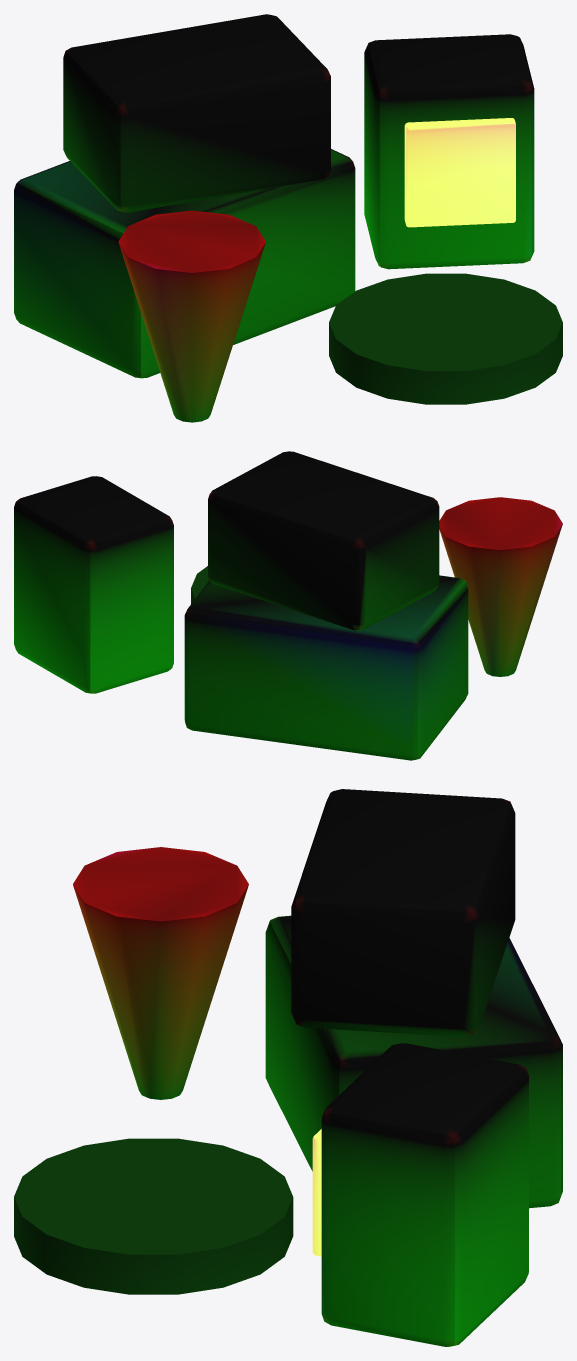
File: hero_floor_clutter.glb
3 renders of one model, top to bottom at view 1: azimuth 30°, elevation 25°; view 2: azimuth 150°, elevation 25°; view 3: azimuth 270°, elevation 25°, orthographic. The views are drawn at different scales.
Parts seen in each view (by area): view 1: HeroFloorClutter; view 2: HeroFloorClutter; view 3: HeroFloorClutter.
Part boxes in pixels (x1,y1,x2,y2): HeroFloorClutter: [14, 14, 562, 422]; HeroFloorClutter: [14, 451, 562, 760]; HeroFloorClutter: [14, 789, 562, 1346].
Bounding box in the file's own units: 1.93 × 0.92 × 1.49.
